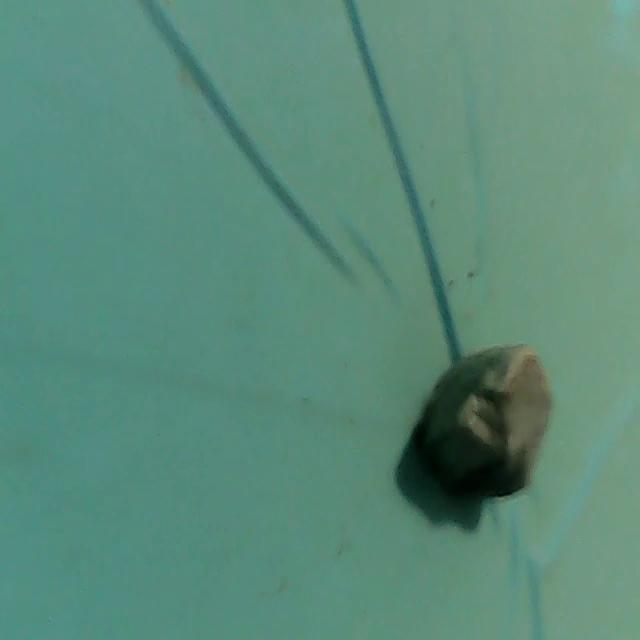rock: (411, 341, 561, 511)
